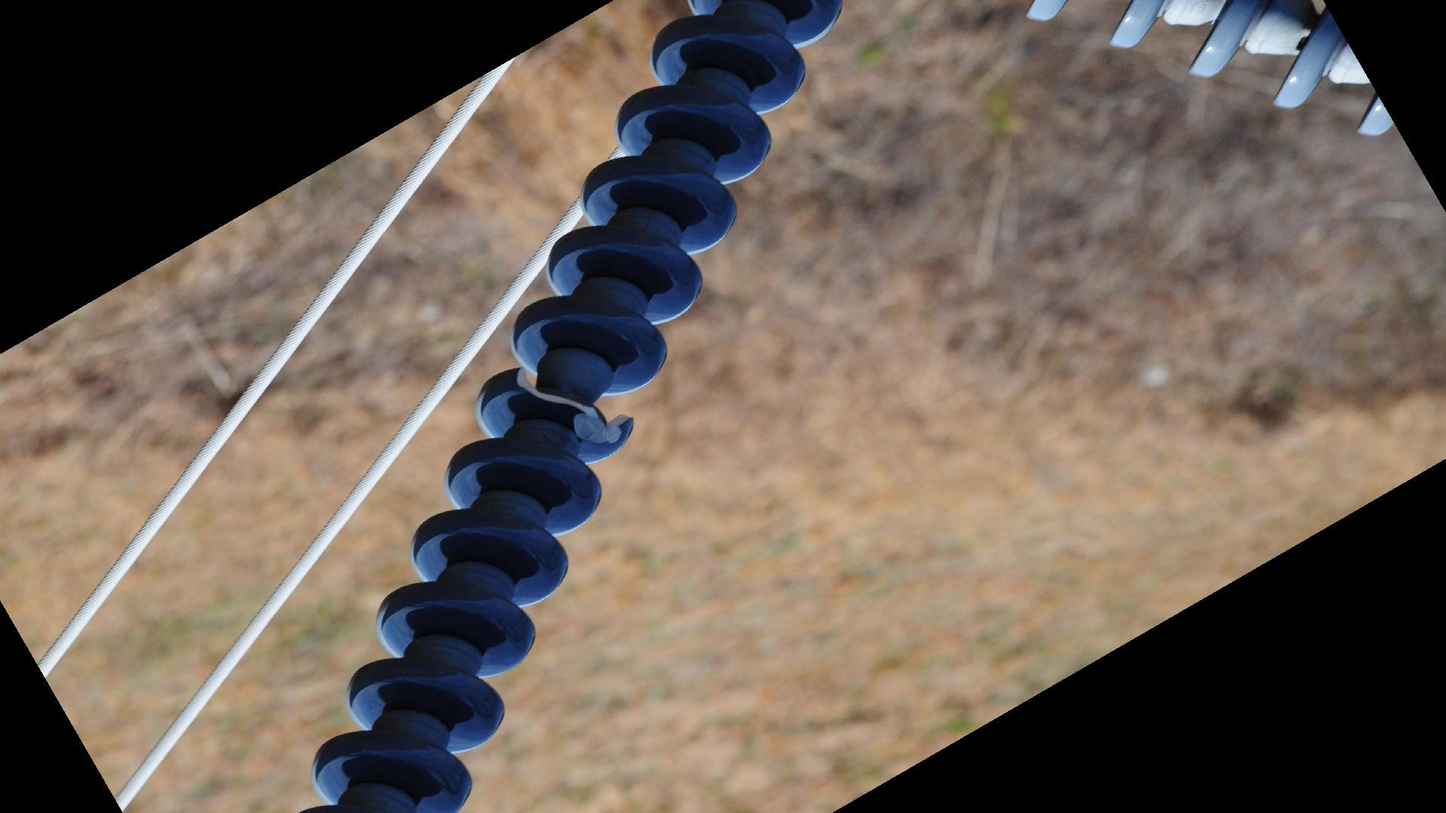insulator: (290, 1, 849, 813), (1018, 1, 1407, 144)
insulator_breakage: (508, 363, 636, 449)
